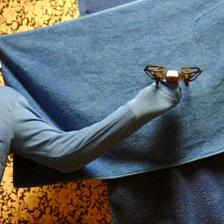drone: (144, 65, 203, 92)
